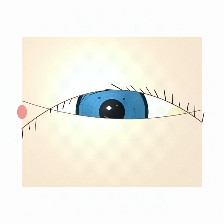pinguecula_lesion: (158, 99, 197, 130)
